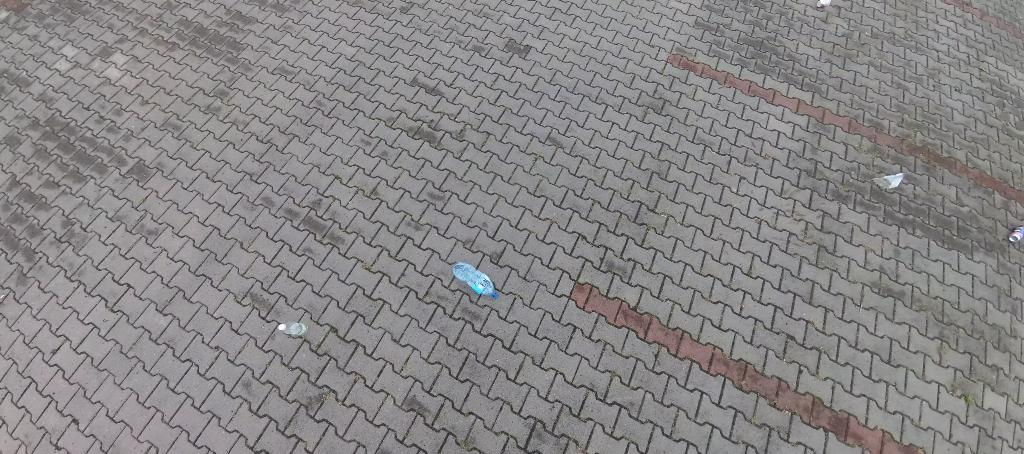garbage: (455, 259, 498, 302), (275, 321, 308, 342), (873, 172, 904, 192)
